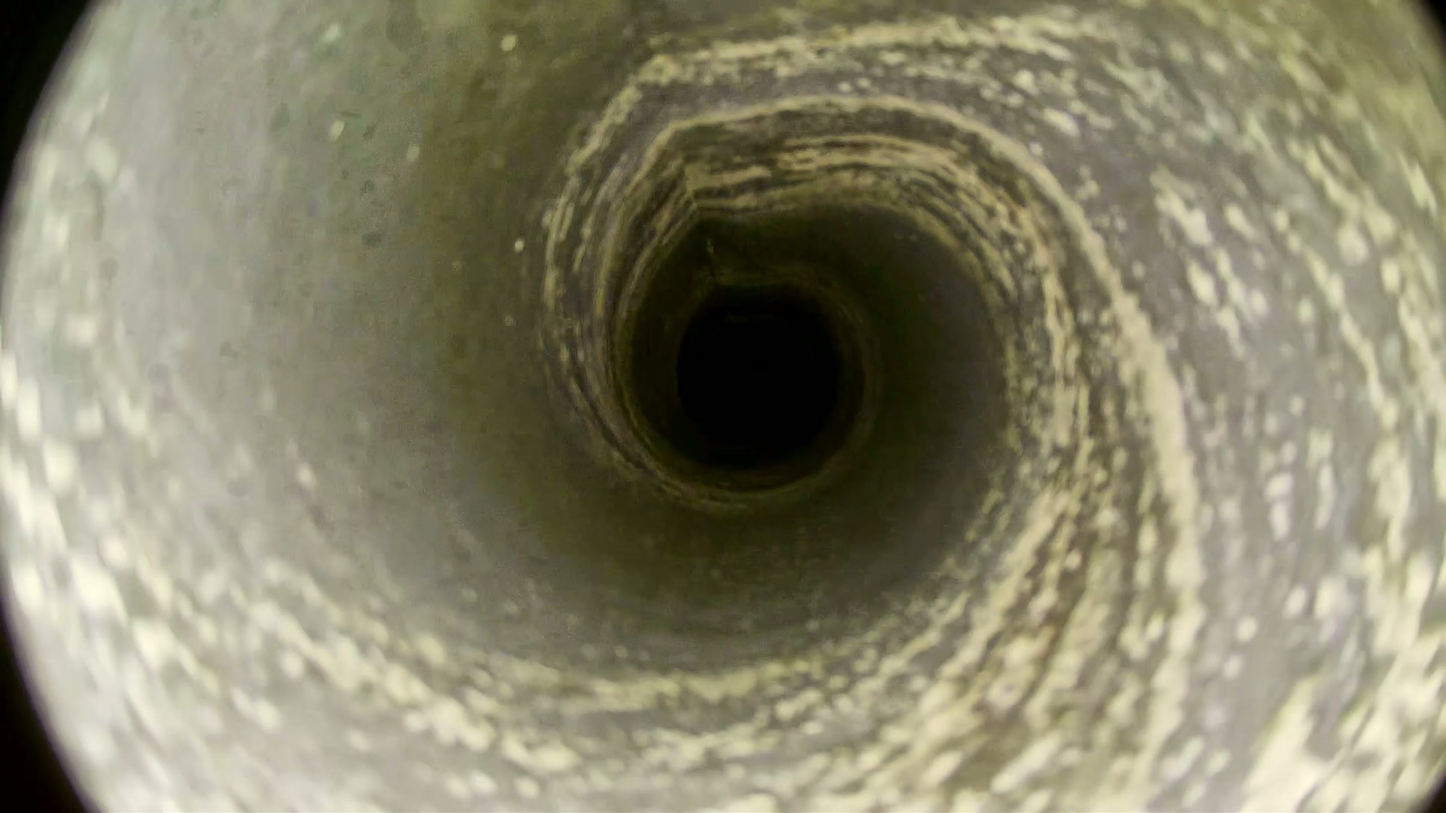hole: (678, 297, 840, 453)
